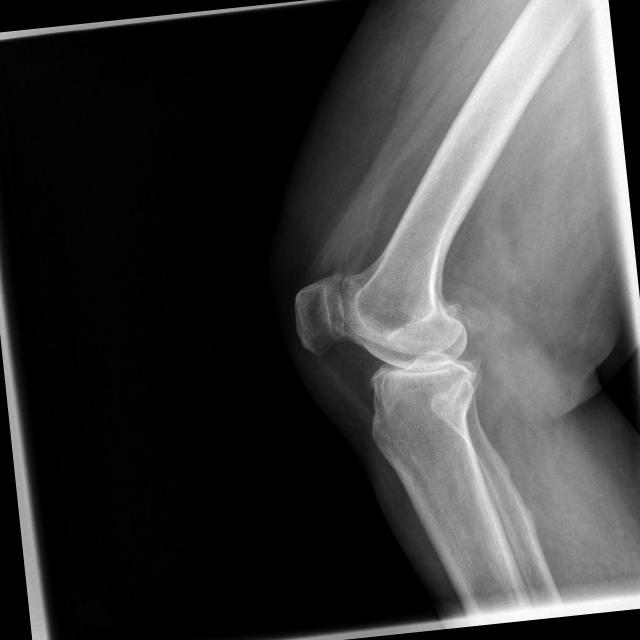Knee: (286, 252, 488, 430)
